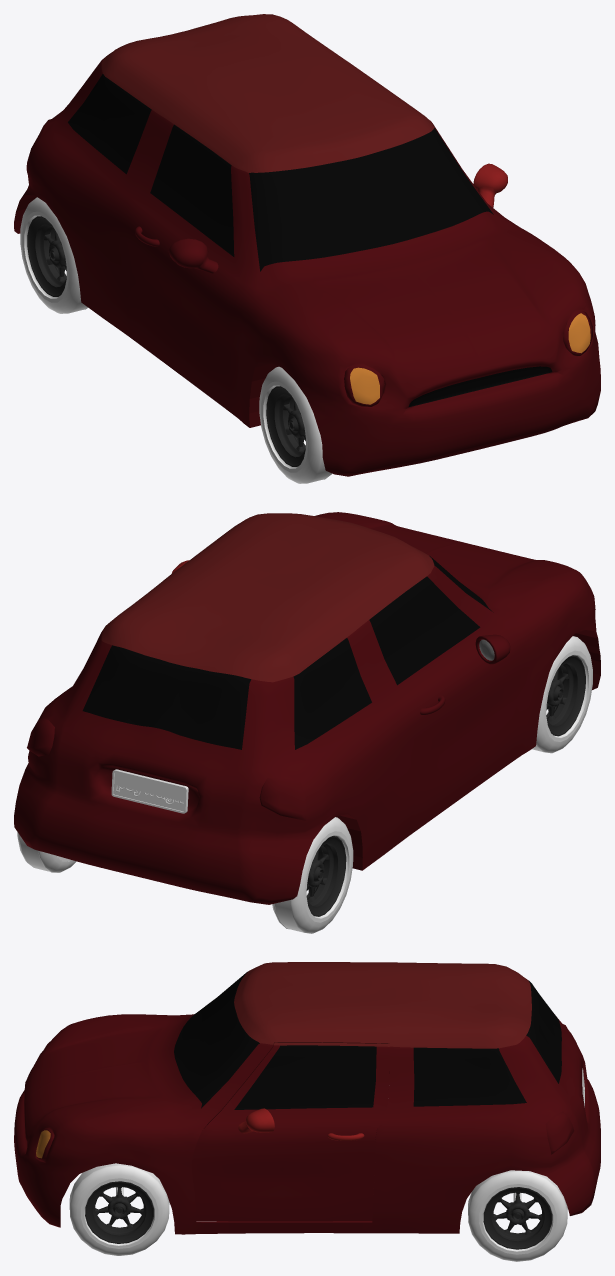
File: auto_animoitu.fbx
3 renders of one model, top to bottom at view 1: azimuth 30°, elevation 25°; view 2: azimuth 150°, elevation 25°; view 3: azimuth 270°, elevation 25°, orthographic. The views are drawn at different scales.
Visible parts, largest first — view 1: car body, car rubber2, car rubber4, Car wheel001, Car wheel002, carhandle_r, openablecardoor_L; view 2: car body, car rubber4, Car wheel001, Car wheel002, car rubber2, regplate, carhandle_r, car rubber3; view 3: car body, openablecardoor_L, car rubber1, car rubber3, Car wheel003, Car rim.
Boxes of the visible parts, left/top/right/bottom form: car body: left=14, top=14, right=600, bottom=476; car rubber2: left=259, top=366, right=332, bottom=483; car rubber4: left=20, top=197, right=88, bottom=313; Car wheel001: left=266, top=386, right=305, bottom=466; Car wheel002: left=27, top=216, right=66, bottom=296; carhandle_r: left=135, top=226, right=218, bottom=273; openablecardoor_L: left=473, top=163, right=507, bottom=207; car body: left=14, top=512, right=600, bottom=904; car rubber4: left=272, top=817, right=353, bottom=933; Car wheel001: left=546, top=655, right=585, bottom=736; Car wheel002: left=306, top=836, right=346, bottom=916; car rubber2: left=532, top=636, right=592, bottom=753; regplate: left=111, top=769, right=188, bottom=813; carhandle_r: left=420, top=634, right=510, bottom=714; car rubber3: left=17, top=832, right=76, bottom=872; car body: left=14, top=962, right=600, bottom=1234; openablecardoor_L: left=191, top=1042, right=389, bottom=1221; car rubber1: left=69, top=1163, right=169, bottom=1255; car rubber3: left=468, top=1170, right=567, bottom=1261; Car wheel003: left=483, top=1187, right=552, bottom=1249; Car rim: left=85, top=1181, right=153, bottom=1243.
Size of the model in its own units: 138 by 104 by 255.
